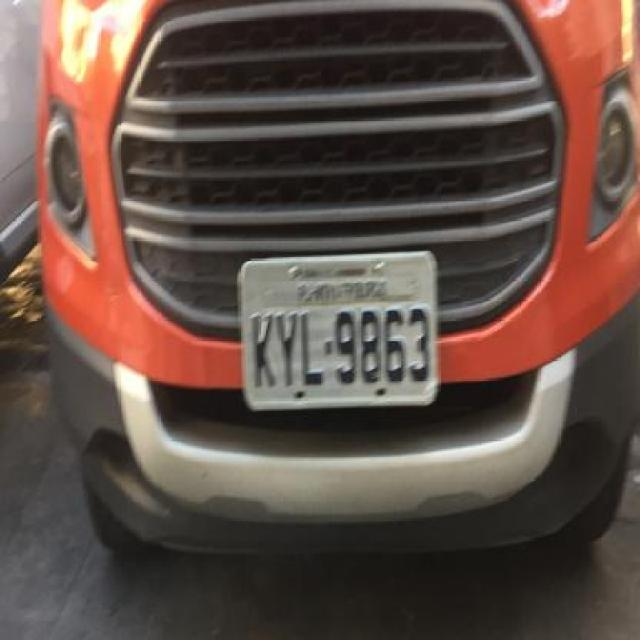old_plate: (233, 245, 444, 415)
